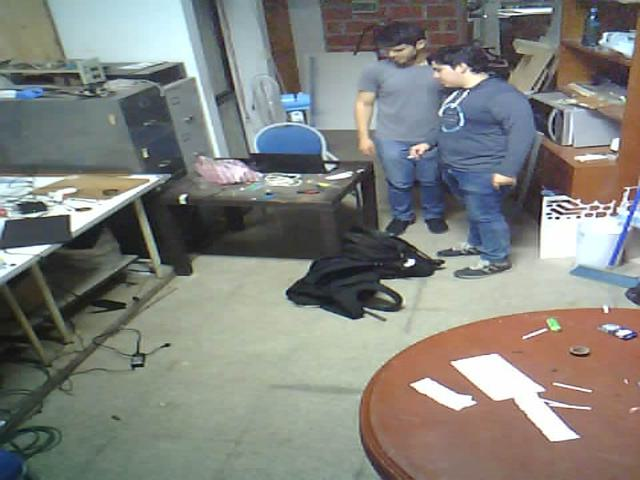person: (418, 33, 530, 281), (350, 10, 459, 241)
